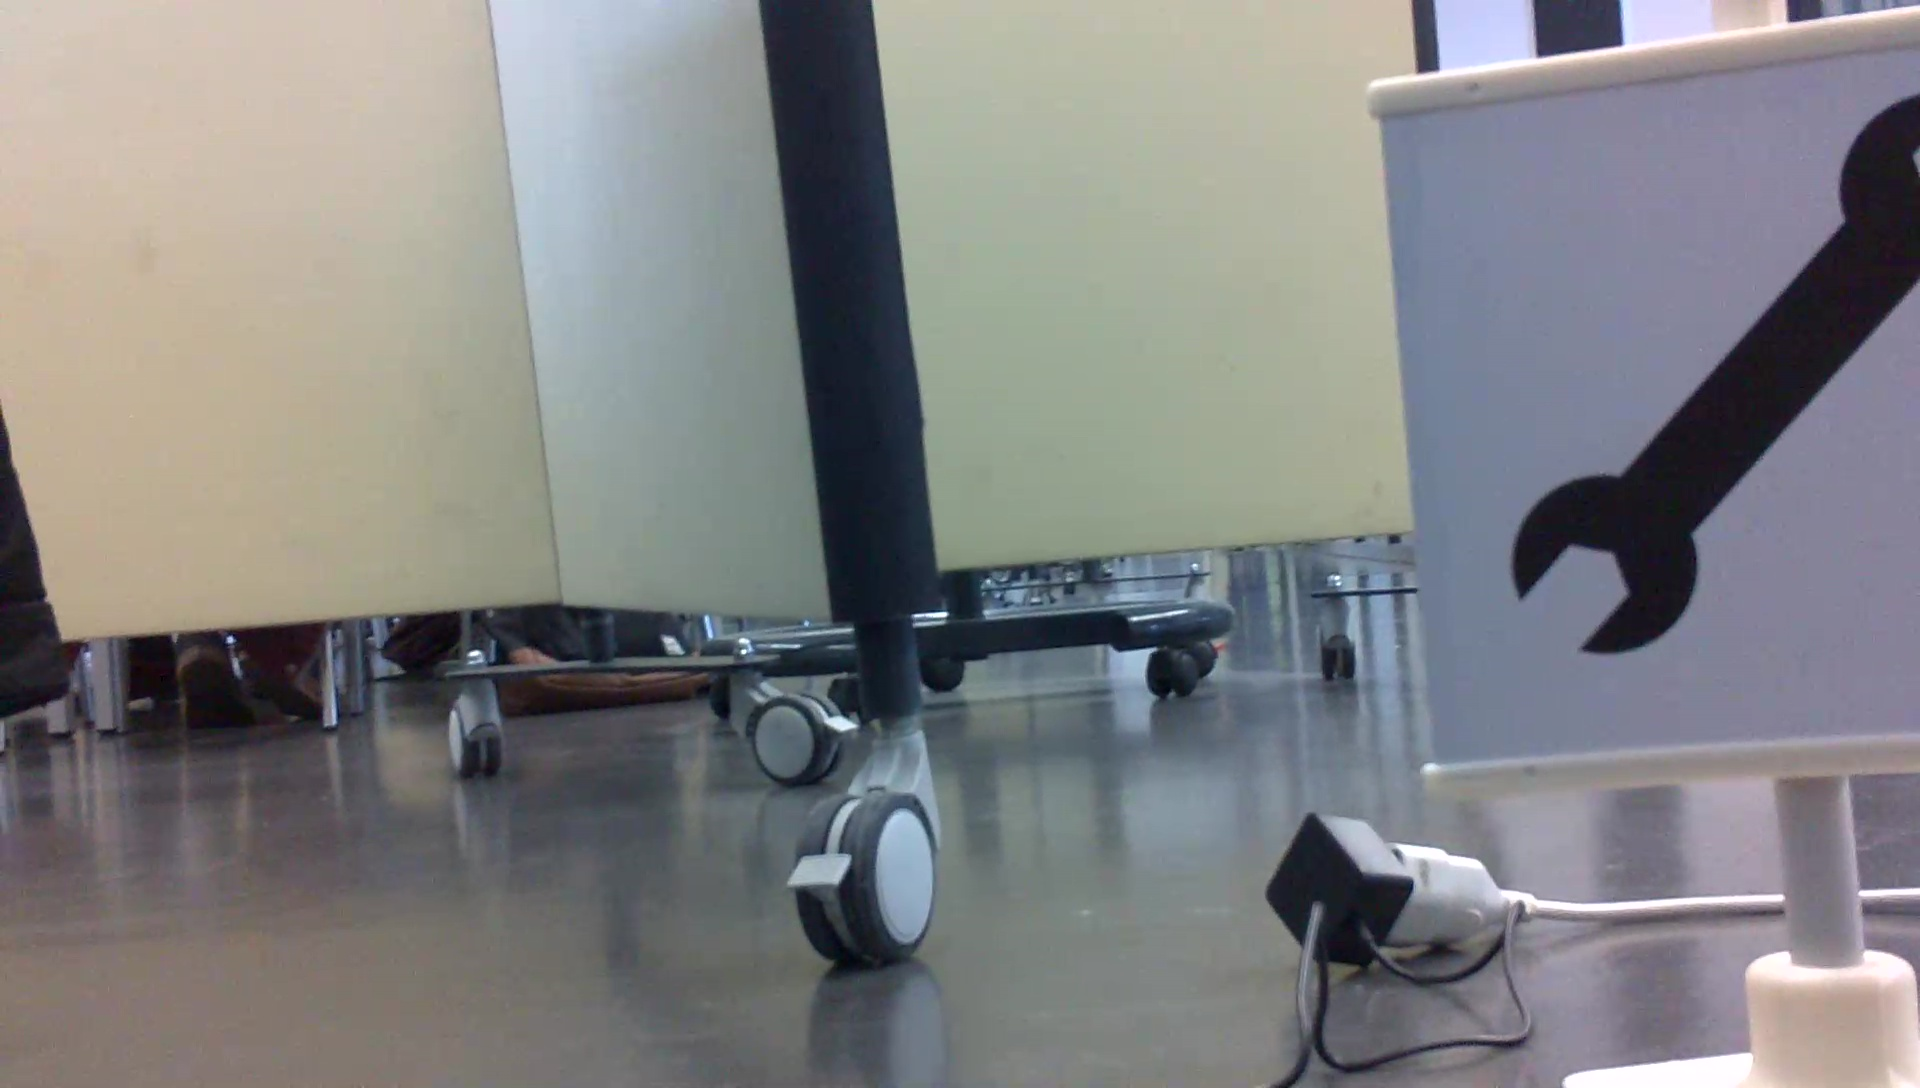wrench: (1501, 84, 1920, 659)
